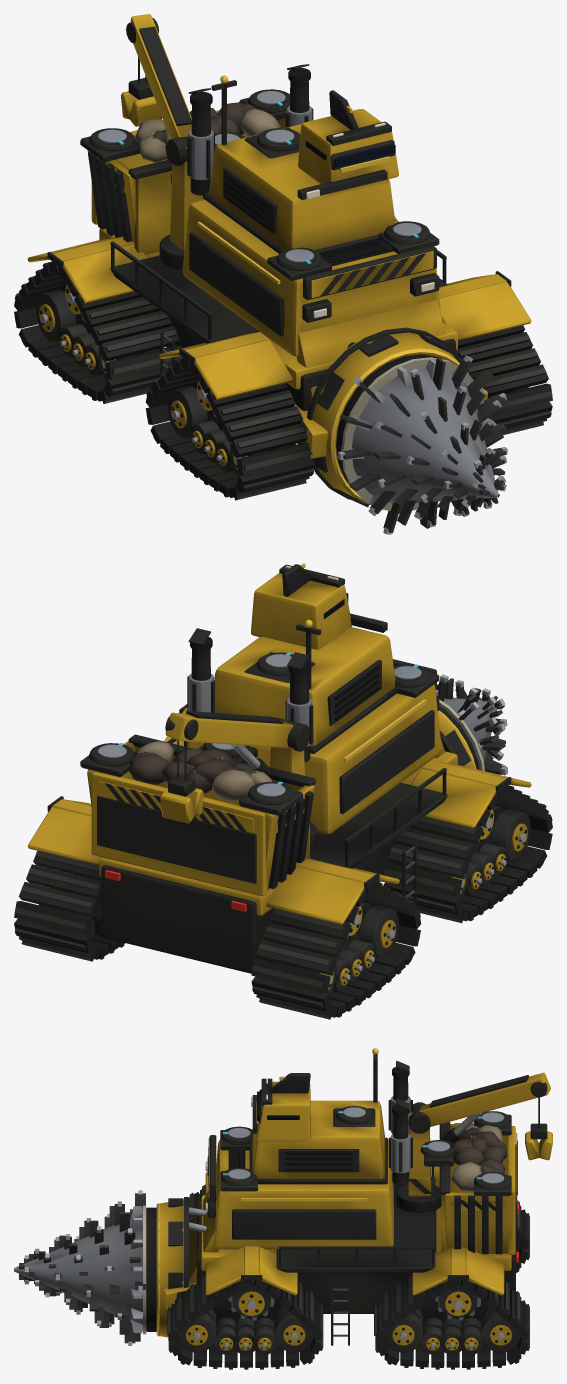
The model's file is ex_crawler_12.glb.
The picture shows the model from 3 angles, top to bottom: view 1: azimuth 30°, elevation 25°; view 2: azimuth 150°, elevation 25°; view 3: azimuth 270°, elevation 25°; orthographic projection. The views are drawn at different scales.
Visible parts, largest first — view 1: body, drill, wheel_20, wheel_8; view 2: body, drill, wheel_7, wheel_19, wheel_23, wheel_11; view 3: body, drill, wheel_2, wheel_14, wheel_13, wheel_1, wheel_0, wheel_12, wheel_15, wheel_3, wheel_17, wheel_5 (+2 smaller).
Part boxes in pixels (bbox=[...]): body: bbox=[14, 14, 552, 507]; drill: bbox=[336, 354, 507, 534]; wheel_20: bbox=[36, 287, 85, 342]; wheel_8: bbox=[167, 384, 217, 438]; body: bbox=[14, 563, 552, 1019]; drill: bbox=[435, 674, 507, 775]; wheel_7: bbox=[480, 805, 530, 861]; wheel_19: bbox=[348, 902, 399, 958]; wheel_23: bbox=[342, 938, 375, 973]; wheel_11: bbox=[474, 841, 507, 877]; body: bbox=[156, 1048, 552, 1369]; drill: bbox=[14, 1190, 156, 1345]; wheel_2: bbox=[274, 1306, 313, 1352]; wheel_14: bbox=[481, 1306, 520, 1352]; wheel_13: bbox=[384, 1309, 423, 1352]; wheel_1: bbox=[177, 1309, 216, 1352]; wheel_0: bbox=[228, 1280, 274, 1320]; wheel_12: bbox=[435, 1280, 480, 1320]; wheel_15: bbox=[459, 1318, 483, 1354]; wheel_3: bbox=[253, 1318, 276, 1354]; wheel_17: bbox=[420, 1318, 444, 1354]; wheel_5: bbox=[214, 1318, 237, 1354].
Size of the model in its own units: 12.48 by 13.19 by 23.32.
